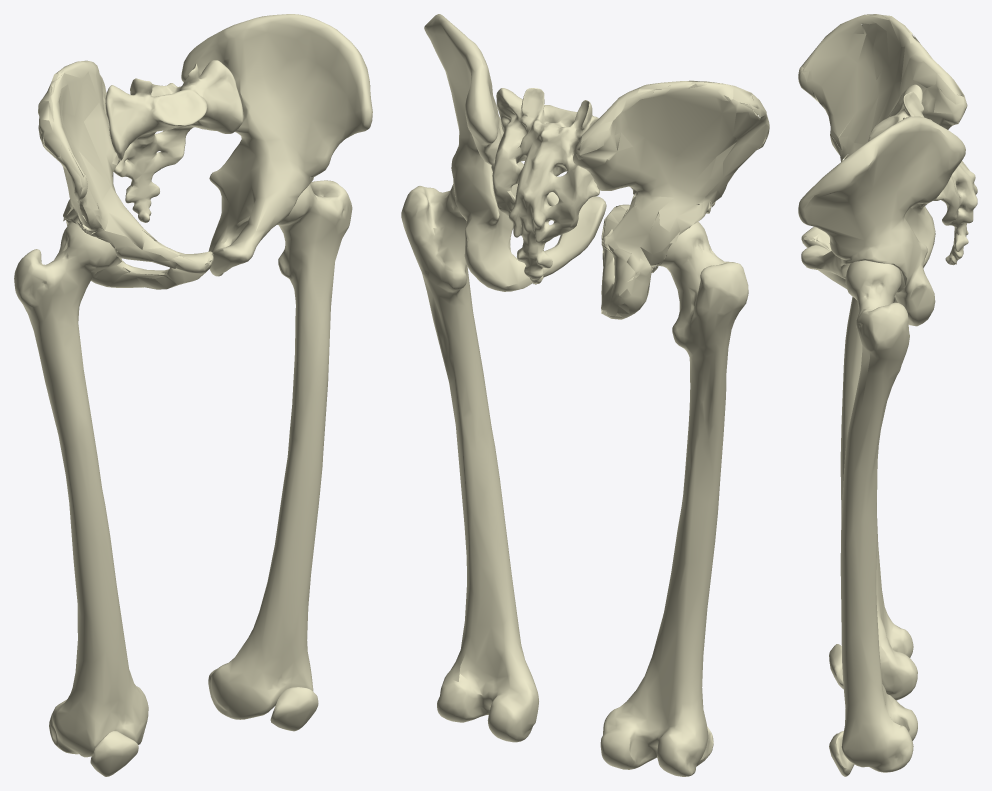
The model's file is hip.glb.
3 renders of one model, left to right at view 1: azimuth 30°, elevation 25°; view 2: azimuth 150°, elevation 25°; view 3: azimuth 270°, elevation 25°, orthographic. The views are drawn at different scales.
Parts seen in each view (by area): view 1: Object_13, Object_40, Object_51, Object_27, Object_22, Object_37, Object_19; view 2: Object_13, Object_51, Object_27, Object_40, Object_22; view 3: Object_51, Object_40, Object_27, Object_13, Object_22, Object_37, Object_19.
Boxes of the visible parts, <box> form: Object_13: <box>14,222,148,757</box>; Object_40: <box>181,14,372,276</box>; Object_51: <box>208,180,352,719</box>; Object_27: <box>38,60,213,289</box>; Object_22: <box>105,60,243,222</box>; Object_37: <box>270,687,318,731</box>; Object_19: <box>90,731,138,776</box>; Object_13: <box>600,222,748,776</box>; Object_51: <box>401,184,538,742</box>; Object_27: <box>573,80,769,319</box>; Object_40: <box>424,14,606,291</box>; Object_22: <box>491,88,599,284</box>; Object_51: <box>840,260,917,772</box>; Object_40: <box>798,116,965,326</box>; Object_27: <box>798,14,967,267</box>; Object_13: <box>840,296,917,700</box>; Object_22: <box>868,84,977,265</box>; Object_37: <box>829,731,854,776</box>; Object_19: <box>829,644,843,688</box>.
Size of the model in its own units: 0.747 by 1.49 by 0.3661.
